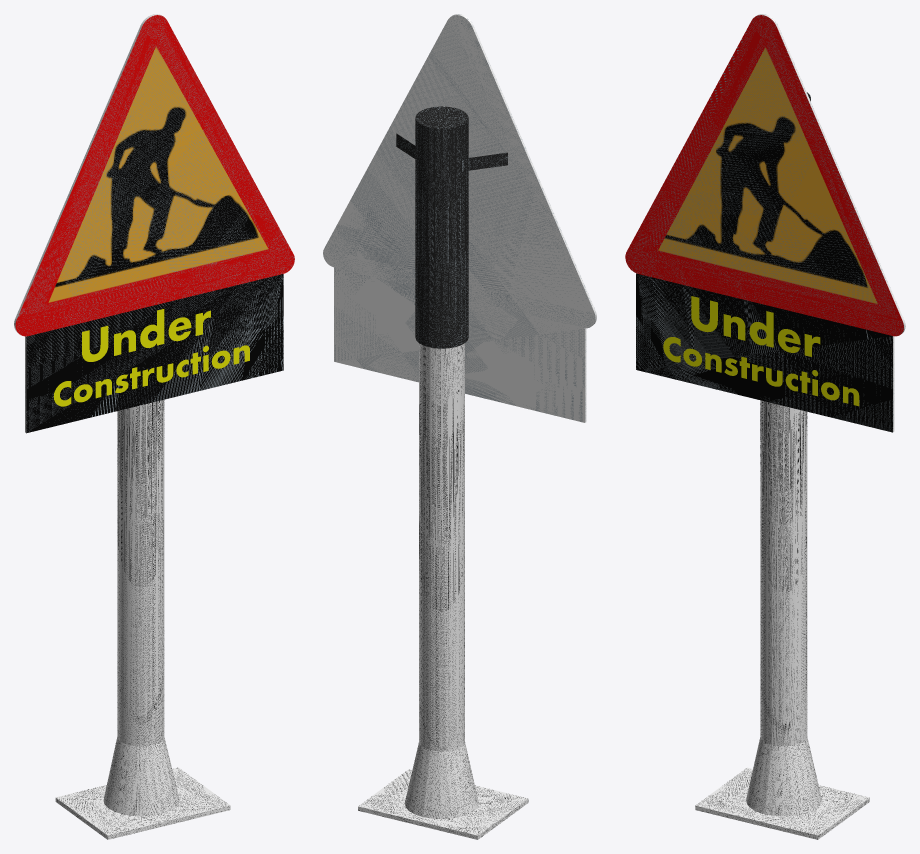
3 renders of one model, left to right at view 1: azimuth 30°, elevation 25°; view 2: azimuth 150°, elevation 25°; view 3: azimuth 330°, elevation 25°, orthographic. The views are drawn at different scales.
Parts seen in each view (by area): view 1: SketchUp (×5), Under_1 (×2); view 2: SketchUp (×4); view 3: SketchUp (×5), Under_1 (×2).
Boxes of the visible parts, x1=… form: SketchUp (×5): x1=14, y1=14, x2=294, y2=839; Under_1 (×2): x1=82, y1=309, x2=164, y2=361; SketchUp (×4): x1=323, y1=14, x2=596, y2=839; SketchUp (×5): x1=625, y1=14, x2=905, y2=839; Under_1 (×2): x1=691, y1=296, x2=773, y2=347.
Bounding box in the file's own units: 16.62 × 5.38 × 45.62.
Materials: 7 (1 with a texture image).
